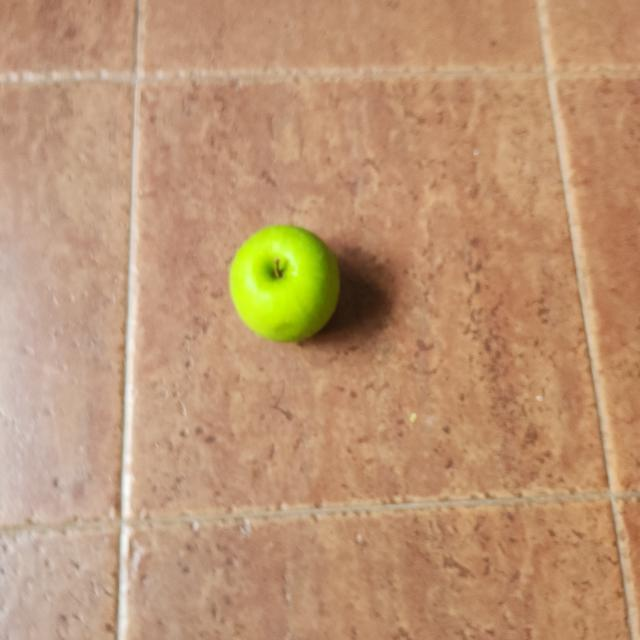apple: (226, 214, 346, 349)
